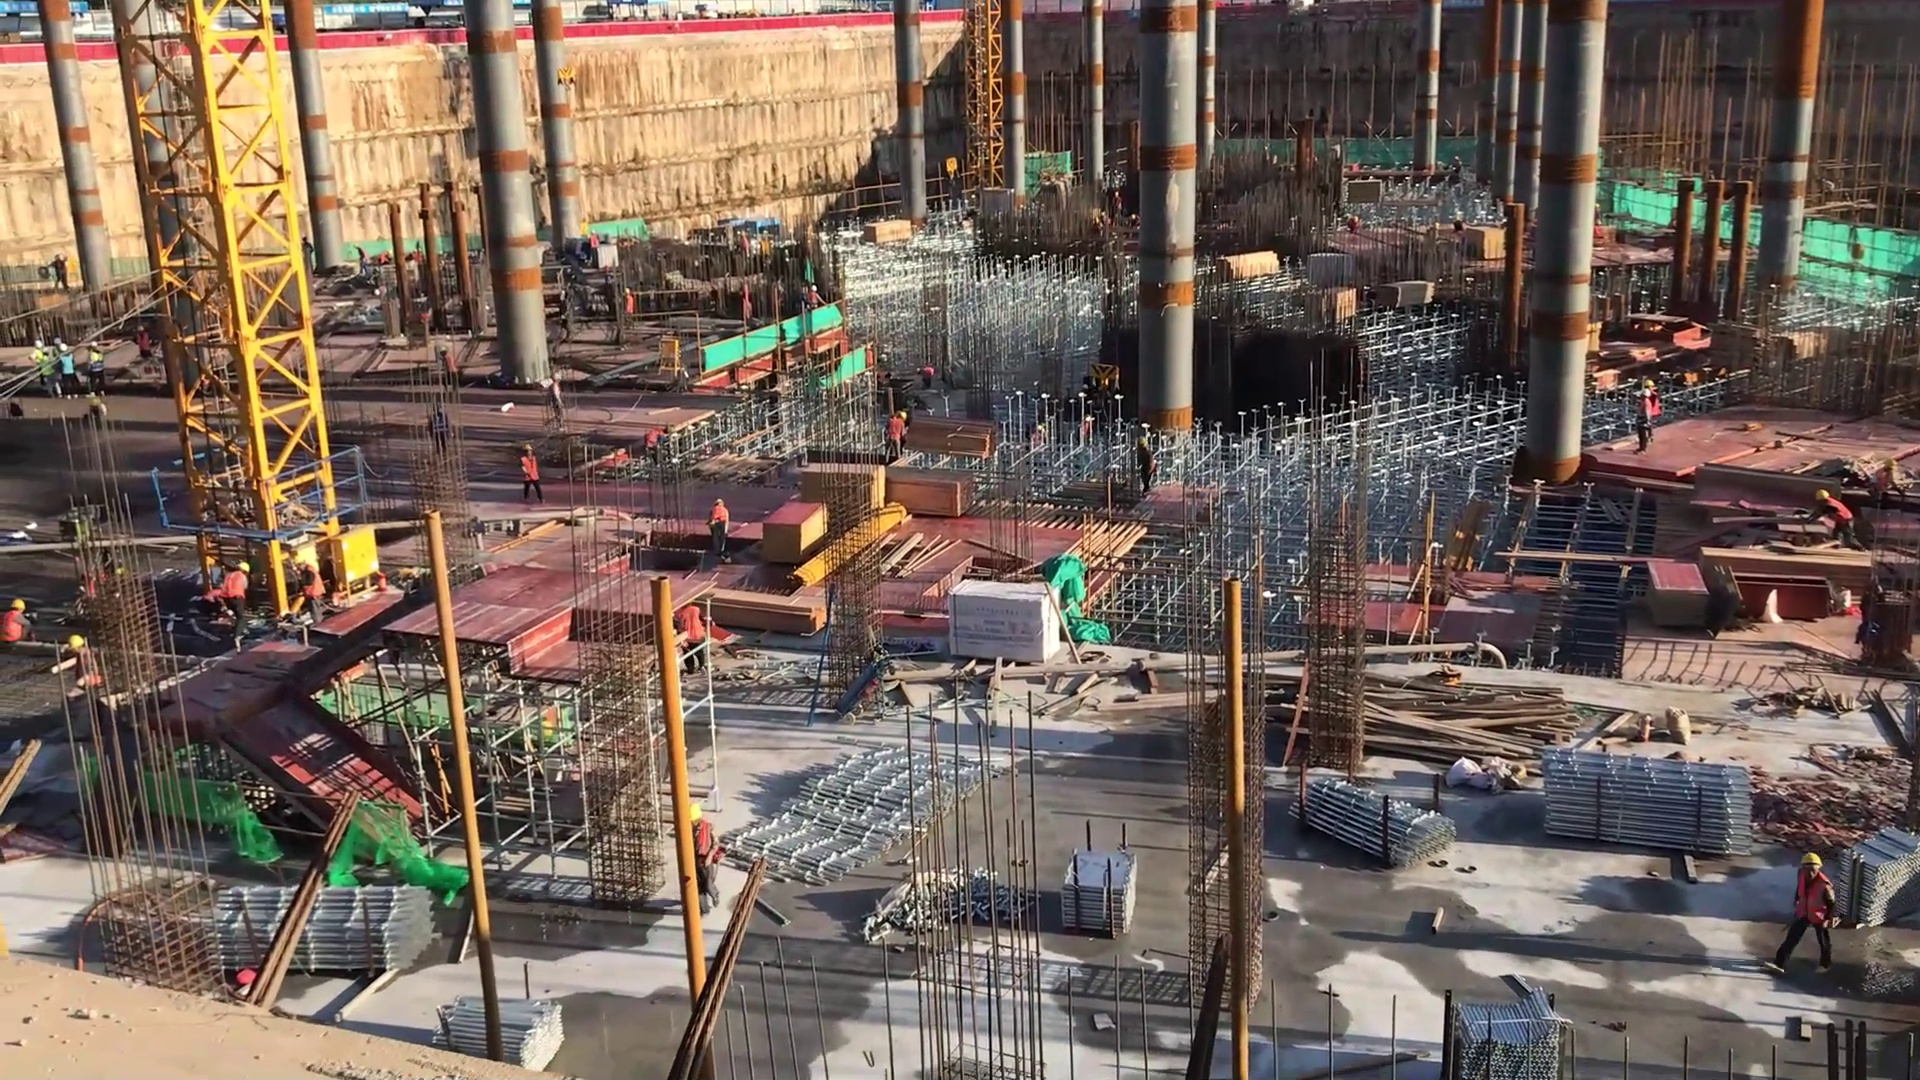board: (801, 463, 887, 527), (1647, 559, 1708, 636), (760, 499, 829, 564)
ebox: (329, 526, 394, 601), (651, 335, 690, 381)
helmet: (685, 801, 703, 825), (1799, 851, 1822, 869), (66, 631, 85, 650), (11, 598, 29, 615), (292, 553, 310, 570), (1816, 487, 1832, 507), (237, 559, 253, 573), (1884, 455, 1898, 469), (897, 409, 913, 421), (32, 339, 46, 351), (1645, 378, 1656, 393), (61, 341, 71, 356), (90, 339, 102, 351), (136, 323, 148, 335), (806, 283, 820, 292), (624, 285, 632, 296)
hook: (552, 60, 590, 95), (937, 155, 966, 187)
person: (1762, 851, 1839, 972), (681, 800, 726, 917), (674, 599, 714, 677), (1, 587, 38, 670), (220, 561, 253, 644), (291, 553, 324, 632), (1870, 447, 1901, 526), (64, 635, 101, 703), (1461, 220, 1513, 268), (518, 444, 547, 509), (1639, 376, 1662, 444), (56, 342, 79, 402), (85, 339, 107, 398), (886, 407, 910, 463), (195, 582, 227, 623), (548, 368, 568, 433), (711, 498, 730, 562), (642, 422, 667, 467), (49, 253, 74, 296), (441, 345, 461, 394), (430, 401, 448, 456), (1634, 391, 1650, 455), (135, 325, 157, 365), (804, 281, 826, 313), (354, 242, 370, 280), (39, 351, 55, 390), (621, 286, 636, 327), (589, 228, 602, 266), (31, 341, 46, 375), (919, 362, 937, 388), (1345, 211, 1363, 234)
scaffold: (216, 863, 452, 980), (1544, 751, 1768, 870), (1283, 771, 1459, 869), (1430, 974, 1579, 1080), (416, 992, 572, 1070), (1831, 832, 1920, 926)
vest: (687, 821, 722, 877), (675, 605, 706, 648), (223, 569, 251, 604), (297, 564, 322, 601), (4, 609, 30, 644), (1824, 501, 1857, 527), (520, 454, 540, 488), (886, 415, 905, 449), (89, 348, 105, 378), (59, 353, 76, 378), (714, 505, 730, 529)
wood: (1364, 680, 1576, 755), (1698, 541, 1877, 604), (703, 591, 830, 632), (884, 468, 976, 519), (904, 417, 995, 454), (862, 215, 920, 265), (1210, 251, 1282, 283), (1373, 278, 1439, 311)
